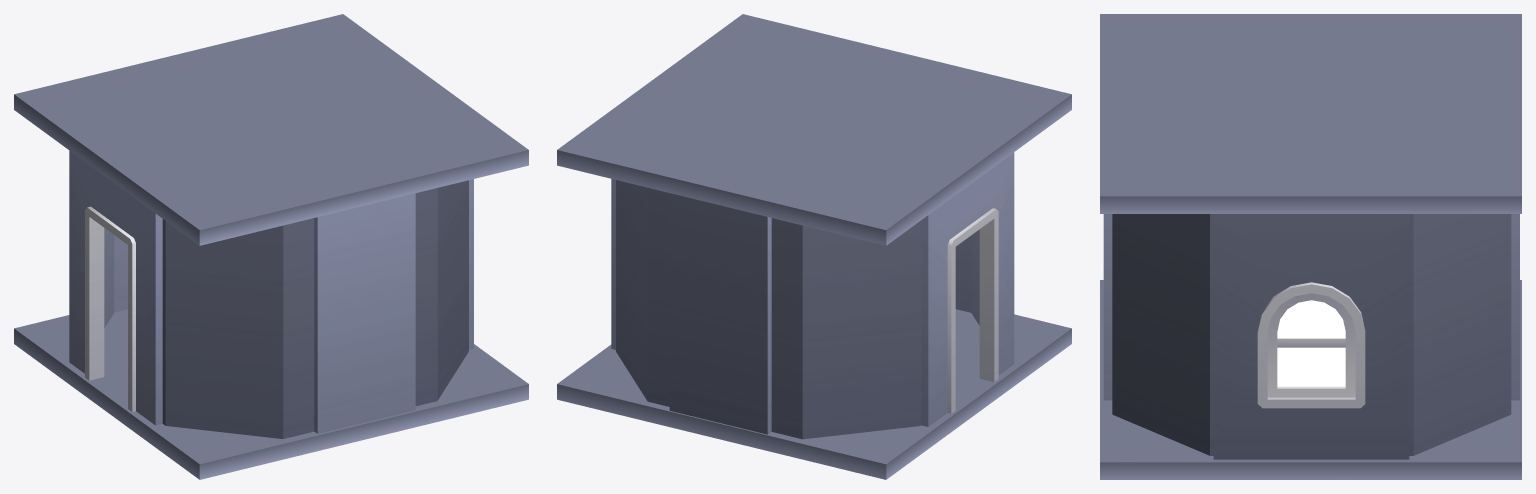
The model's file is tower_0.glb.
The picture shows the model from 3 angles, left to right: view 1: azimuth 30°, elevation 25°; view 2: azimuth 150°, elevation 25°; view 3: azimuth 270°, elevation 25°; orthographic projection. The views are drawn at different scales.
Visible parts, largest first — view 1: ceiling, wall-corner-diagonal.001, wall-half.001, floor, wall-doorway-square, wall-corner-diagonal, wall-corner-diagonal.003, wall-window-round-detailed; view 2: ceiling, wall-corner-diagonal.003, wall-half, floor, wall-doorway-square, wall-corner-diagonal.002, wall-corner-diagonal.001, wall-window-round-detailed; view 3: ceiling, wall-window-round-detailed, wall-corner-diagonal.002, wall-corner-diagonal, floor, (%ignore), wall-half.001, wall-half.
Boxes of the visible parts, x1,y1,x2,y2 form: ceiling: (14,14,528,245); wall-corner-diagonal.001: (162,218,314,438); wall-half.001: (314,193,415,433); floor: (14,309,528,479); wall-doorway-square: (69,150,162,425); wall-corner-diagonal: (415,180,468,406); wall-corner-diagonal.003: (104,228,127,327); wall-window-round-detailed: (469,179,473,349); ceiling: (557,14,1071,245); wall-corner-diagonal.003: (771,218,921,439); wall-half: (669,193,771,434); floor: (557,309,1071,479); wall-doorway-square: (921,152,1014,426); wall-corner-diagonal.002: (616,180,669,406); wall-corner-diagonal.001: (955,229,979,325); wall-window-round-detailed: (611,179,615,349); ceiling: (1100,14,1521,213); wall-window-round-detailed: (1213,214,1409,459); wall-corner-diagonal.002: (1409,214,1511,455); wall-corner-diagonal: (1112,214,1213,455); floor: (1100,280,1521,479); (%ignore): (1277,300,1345,386); wall-half.001: (1103,214,1112,400); wall-half: (1511,214,1519,400).
Size of the model in its own units: 4.41 by 3.2 by 4.31.
7 materials, 6 textured.
